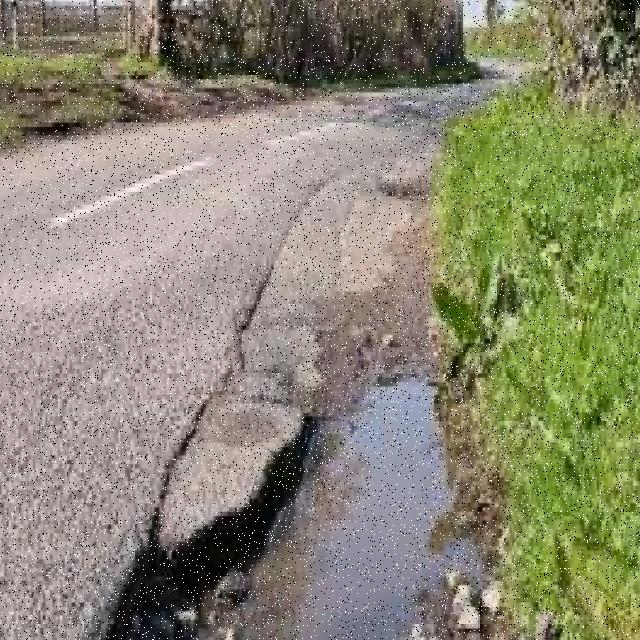pothole: (106, 378, 518, 640)
